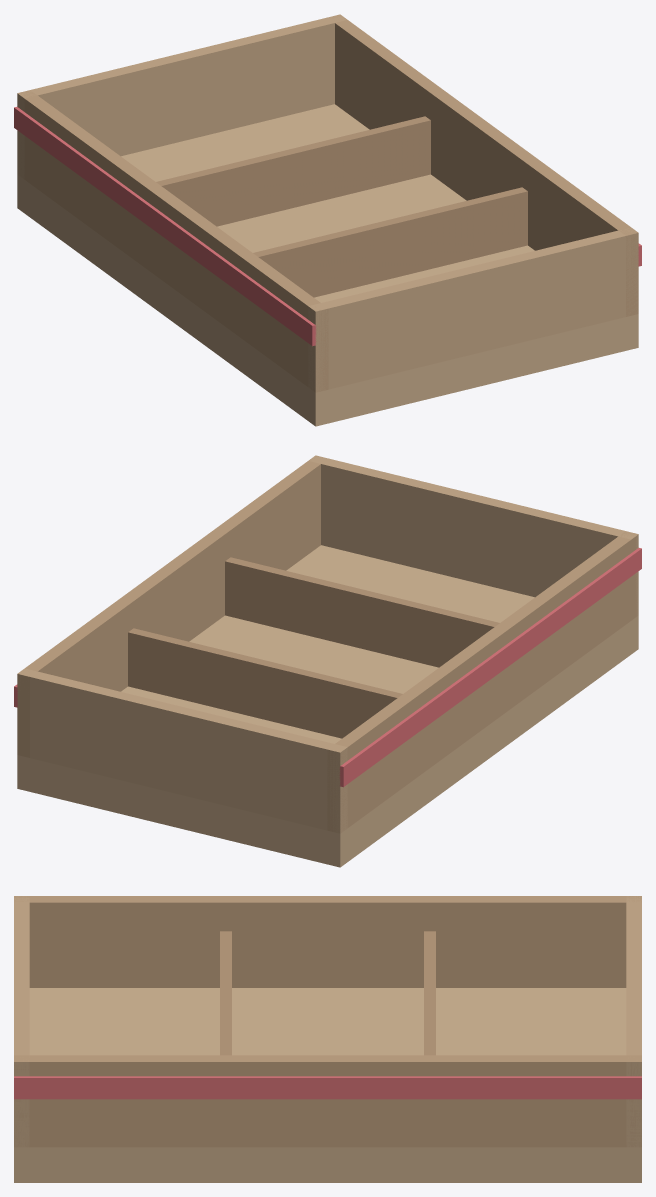
File: cart_tray.glb
3 views of the same model, one above another, from view 1: azimuth 30°, elevation 25°; view 2: azimuth 150°, elevation 25°; view 3: azimuth 270°, elevation 25° (orthographic). The views are drawn at different scales.
Visible parts, largest first — view 1: End.-1, Side.-1, Tray floor, Divider.-1, Trim.-1; view 2: End.-1, Side.-1, Tray floor, Divider.-1, Trim.-1; view 3: Side.-1, Tray floor, Trim.-1, End.-1, Divider.-1.
Boxes of the visible parts, box(x1,y1,x2,y2) form: End.-1: box(17, 14, 638, 392); Side.-1: box(18, 14, 638, 391); Tray floor: box(17, 104, 638, 426); Divider.-1: box(156, 116, 527, 297); Trim.-1: box(14, 107, 641, 346); End.-1: box(17, 455, 638, 833); Side.-1: box(17, 456, 638, 833); Tray floor: box(17, 545, 638, 867); Divider.-1: box(128, 557, 499, 738); Trim.-1: box(14, 548, 641, 787); Side.-1: box(14, 896, 641, 1147); Tray floor: box(14, 988, 641, 1182); Trim.-1: box(14, 1076, 641, 1099); End.-1: box(14, 896, 641, 1147); Divider.-1: box(220, 931, 435, 1055).
Size of the model in its own units: 0.51 by 0.17 by 0.8.
